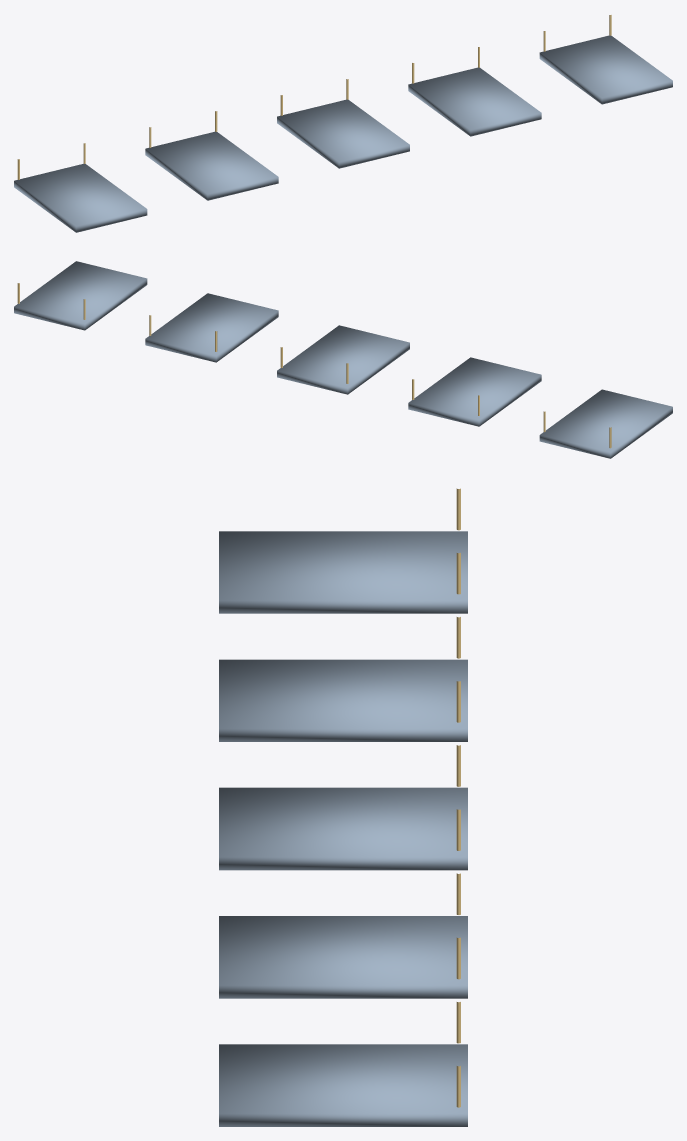
File: 07_L91_XRayObservatoryServicePlatform.glb
3 views of the same model, one above another, from view 1: azimuth 30°, elevation 25°; view 2: azimuth 150°, elevation 25°; view 3: azimuth 270°, elevation 25° (orthographic). The views are drawn at different scales.
Parts seen in each view (by area): view 1: L91_XRayObservatoryServicePla_Part_0000, L91_XRayObservatoryServicePla_Part_0001; view 2: L91_XRayObservatoryServicePla_Part_0000, L91_XRayObservatoryServicePla_Part_0001; view 3: L91_XRayObservatoryServicePla_Part_0000, L91_XRayObservatoryServicePla_Part_0001.
Part boxes in pixels (left/top/right/bottom): L91_XRayObservatoryServicePla_Part_0000: left=14, top=35, right=672, bottom=232; L91_XRayObservatoryServicePla_Part_0001: left=17, top=15, right=611, bottom=179; L91_XRayObservatoryServicePla_Part_0000: left=14, top=261, right=672, bottom=458; L91_XRayObservatoryServicePla_Part_0001: left=17, top=283, right=611, bottom=448; L91_XRayObservatoryServicePla_Part_0000: left=219, top=531, right=467, bottom=1126; L91_XRayObservatoryServicePla_Part_0001: left=456, top=488, right=460, bottom=1107.
Bounding box in the file's own units: 22.7 × 1.26 × 4.1.
